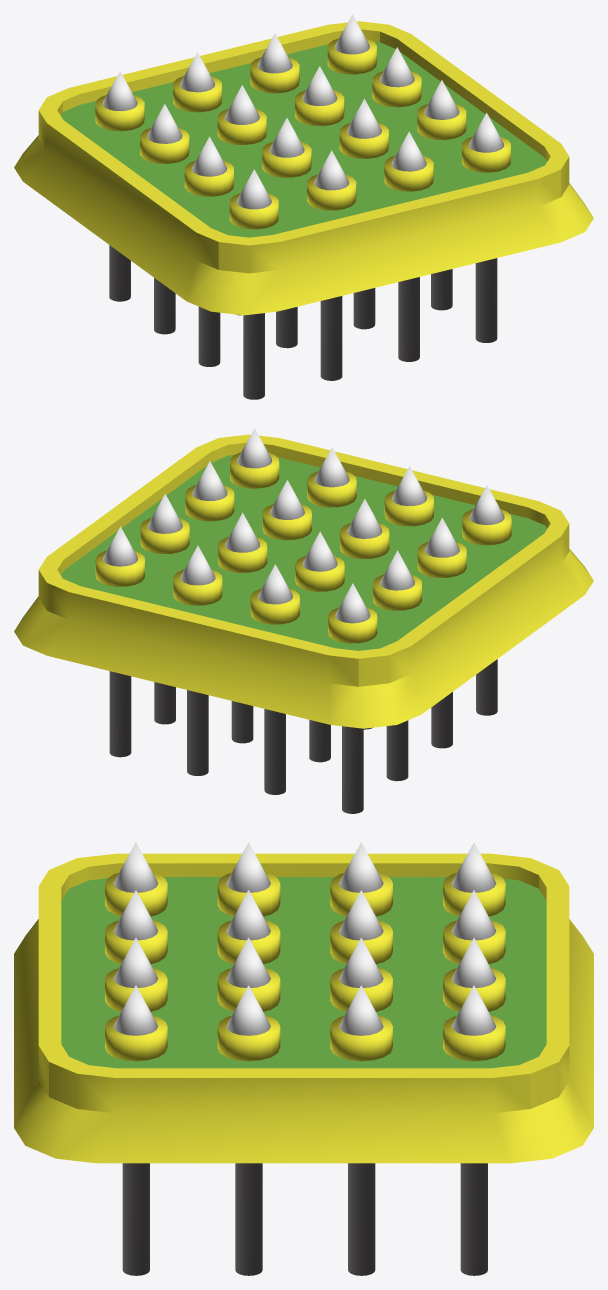
The model's file is Obstacle 6 V2.fbx.
3 views of the same model, one above another, from view 1: azimuth 30°, elevation 25°; view 2: azimuth 150°, elevation 25°; view 3: azimuth 270°, elevation 25° (orthographic). The views are drawn at different scales.
Parts seen in each view (by area): view 1: O6 Part 1, O6 Part 2; view 2: O6 Part 1, O6 Part 2; view 3: O6 Part 1, O6 Part 2.
Part boxes in pixels (box(x1,y1,x2,y2)): O6 Part 1: box(14, 21, 593, 315); O6 Part 2: box(95, 14, 510, 399); O6 Part 1: box(14, 434, 593, 728); O6 Part 2: box(95, 428, 511, 813); O6 Part 1: box(14, 853, 593, 1163); O6 Part 2: box(105, 842, 505, 1275).
Bounding box in the file's own units: 125 × 67.55 × 125.
Materials: 1 (1 with a texture image).
